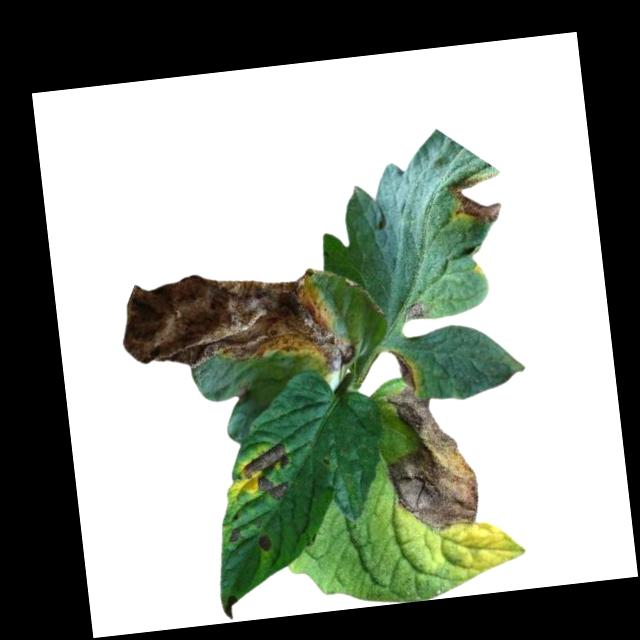Early_blight: (116, 256, 357, 395), (387, 382, 483, 535), (441, 169, 508, 225), (242, 440, 295, 503), (389, 347, 415, 389), (401, 298, 428, 322), (220, 590, 240, 621), (232, 384, 251, 406), (226, 525, 243, 548), (259, 532, 274, 555)
